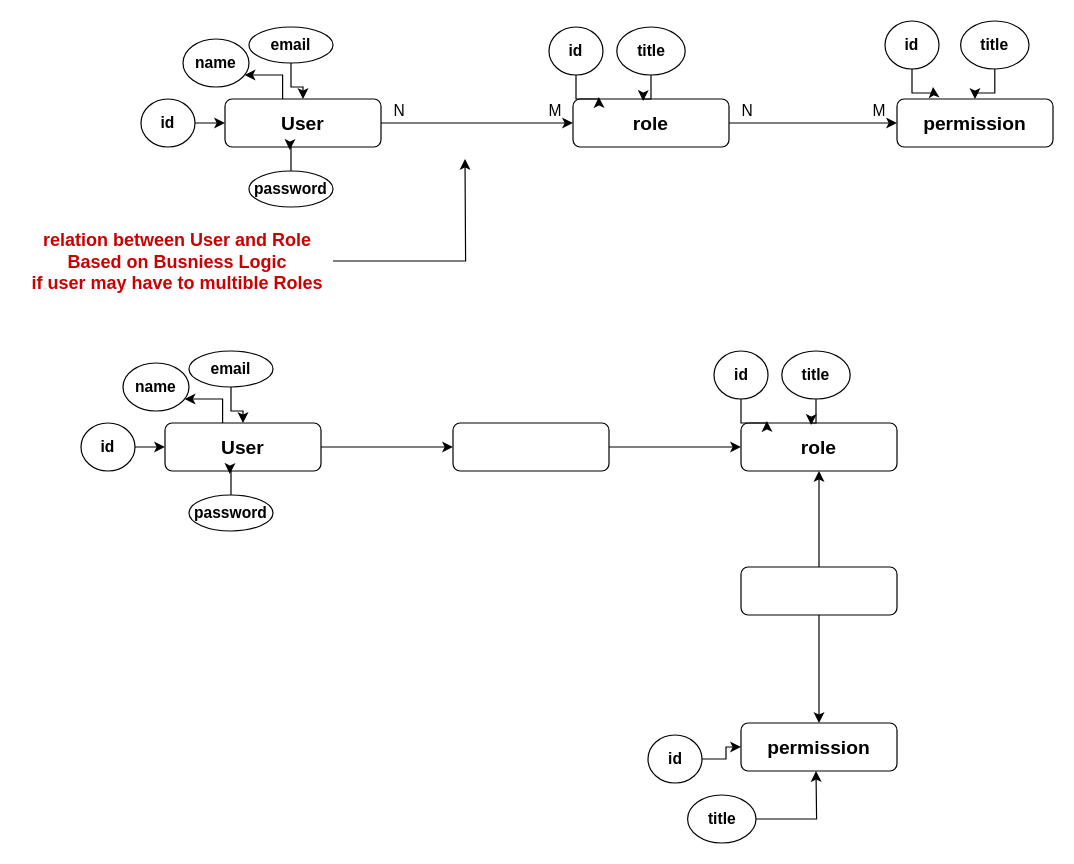
The diagram is 1074 pixels wide and 864 high, and some of its shapes have lost their labels. The centre of each missing label's shape, as x and y in pixels:
role_permission: the point at 818,590
user_role: the point at 530,446
